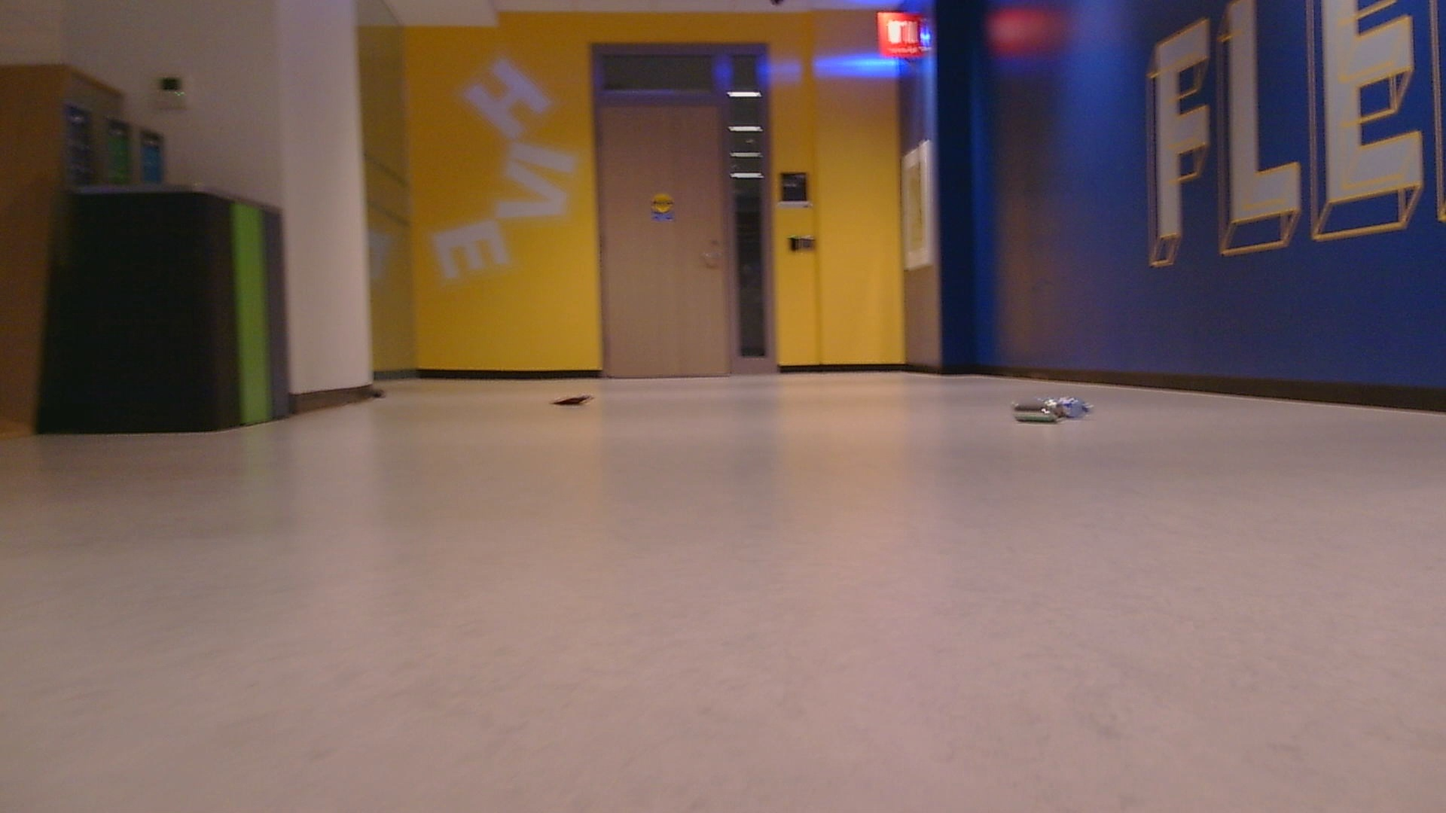can: (1010, 389, 1094, 424), (535, 381, 609, 420)
